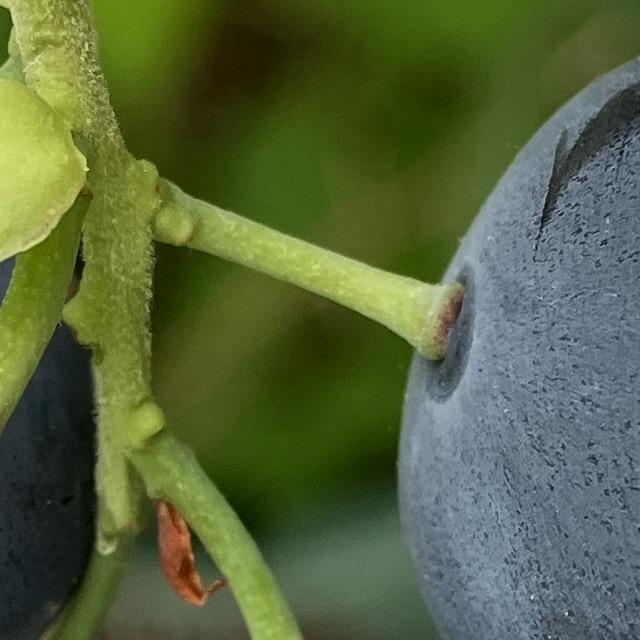Blueberries: (391, 21, 640, 640)
